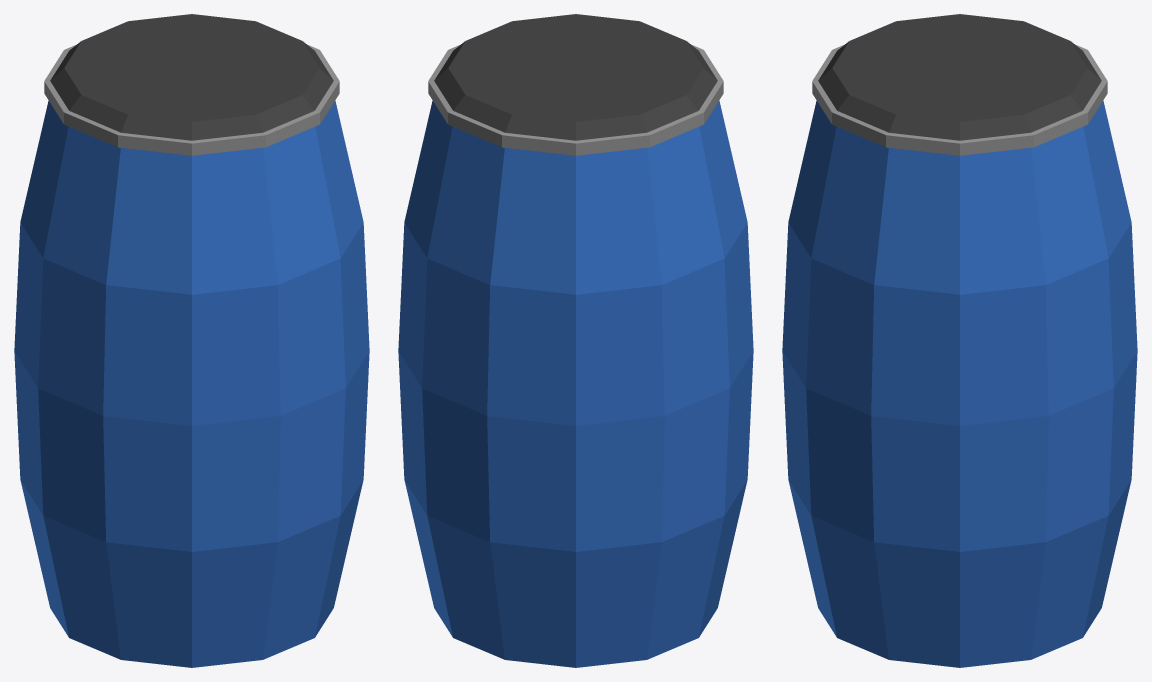
Rendered from Plastic Drum.fbx.
The picture shows the model from 3 angles, left to right: view 1: azimuth 30°, elevation 25°; view 2: azimuth 150°, elevation 25°; view 3: azimuth 270°, elevation 25°; orthographic projection.
Visible parts, largest first — view 1: Plastic Drum; view 2: Plastic Drum; view 3: Plastic Drum.
Boxes of the visible parts, box(x1,y1,x2,y2) form: Plastic Drum: box(14, 14, 369, 667); Plastic Drum: box(398, 14, 753, 667); Plastic Drum: box(782, 14, 1137, 667).
Bounding box in the file's own units: 6.26 × 10.5 × 6.26.
